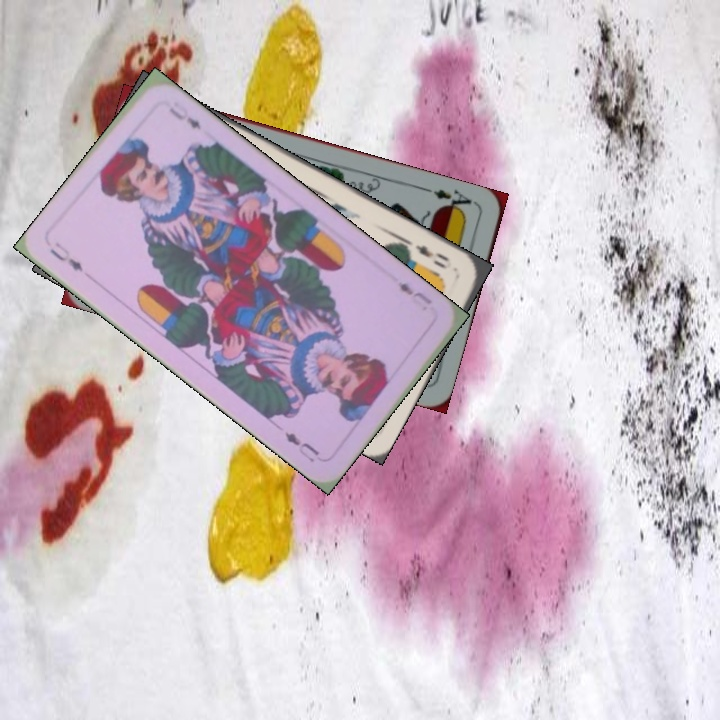EA: (429, 185, 479, 217)
EO: (411, 240, 455, 272)
EU: (45, 238, 86, 275), (393, 277, 435, 308)
